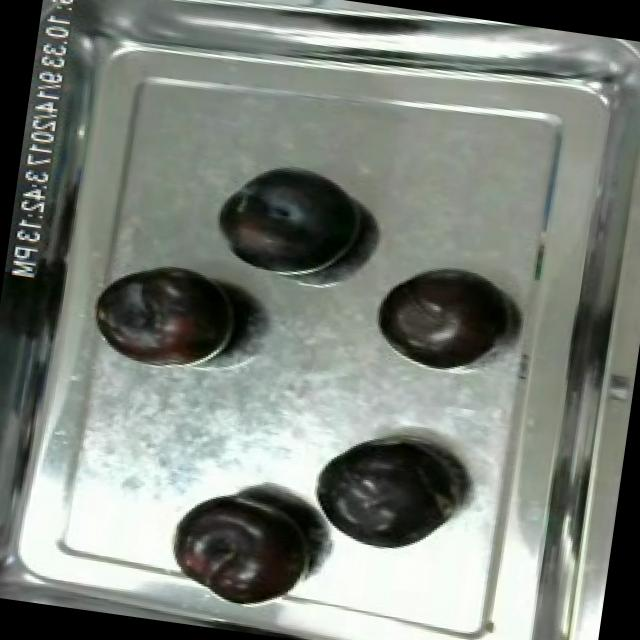Fruit: (163, 480, 324, 617), (212, 154, 376, 288), (86, 253, 252, 381), (302, 426, 458, 560), (371, 256, 512, 370)
